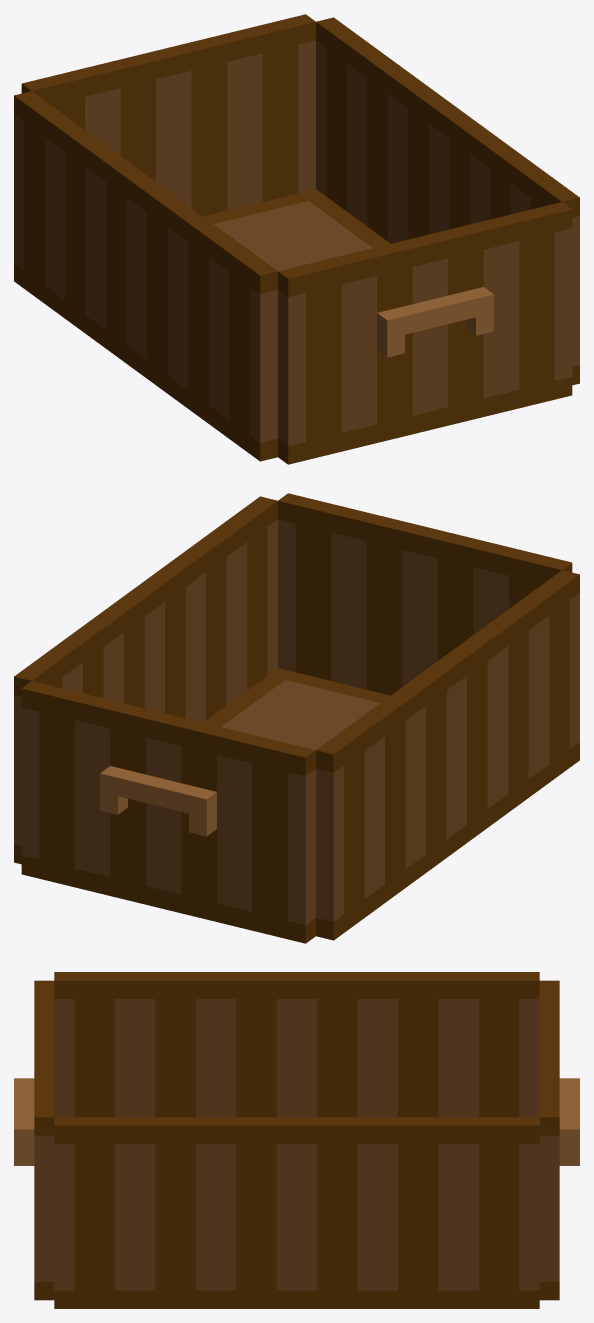
The model's file is Crate.obj.
3 renders of one model, top to bottom at view 1: azimuth 30°, elevation 25°; view 2: azimuth 150°, elevation 25°; view 3: azimuth 270°, elevation 25°, orthographic.
Visible parts, largest first — view 1: Crate; view 2: Crate; view 3: Crate.
Boxes of the visible parts, x1,y1,x2,y2 form: Crate: (14,14,579,464); Crate: (14,493,579,943); Crate: (14,972,579,1308).
Size of the model in its own units: 18 by 10 by 28.
